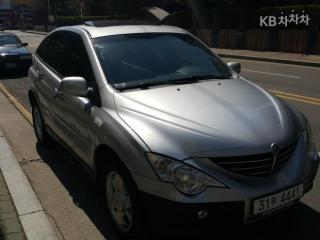1: (265, 198, 270, 209), (296, 187, 301, 196)
3: (258, 199, 265, 212)
4: (280, 192, 286, 203), (290, 189, 296, 199), (286, 191, 291, 201)
plate: (244, 182, 310, 220)
우: (271, 196, 278, 207)
